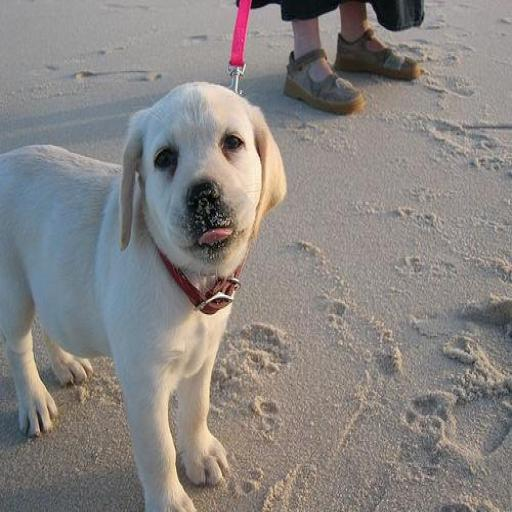dog_face: (115, 84, 289, 285)
